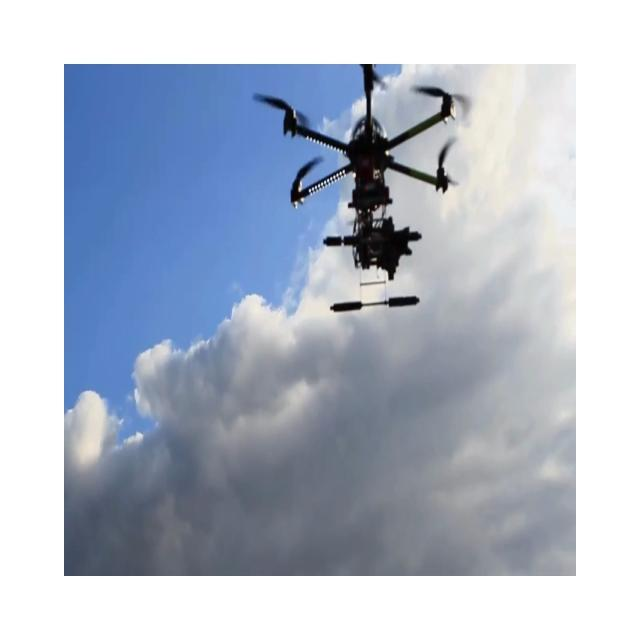drone: (252, 64, 468, 312)
